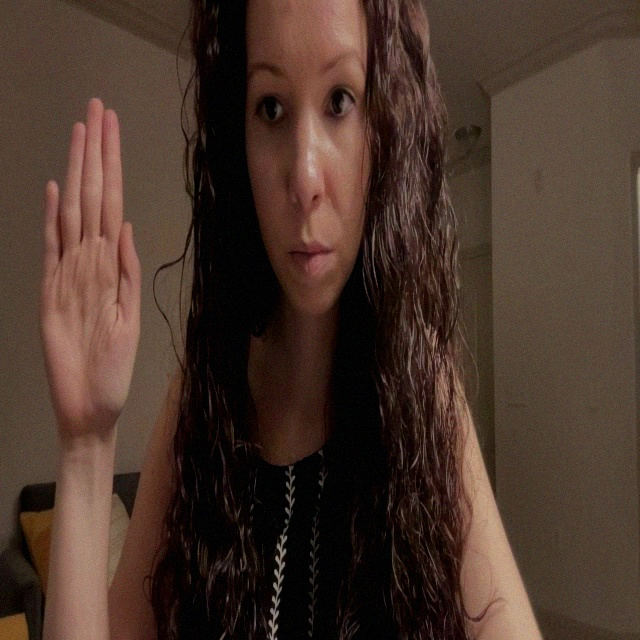Paper: (24, 94, 140, 437)
